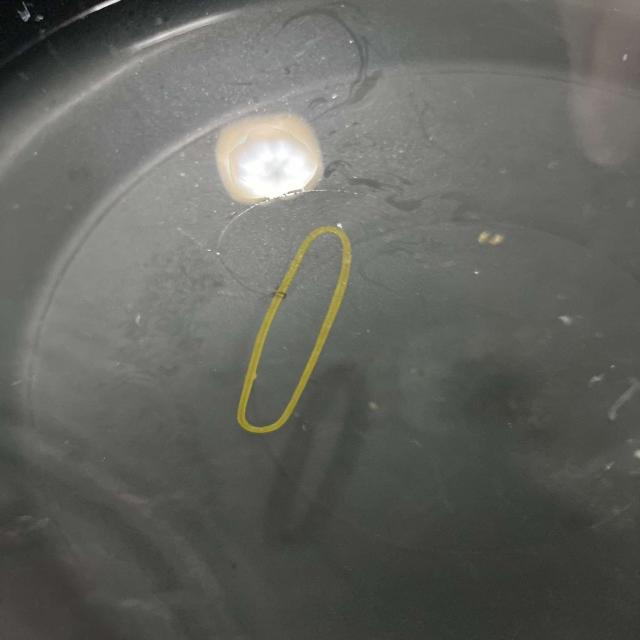Rubberband: (188, 214, 386, 452)
